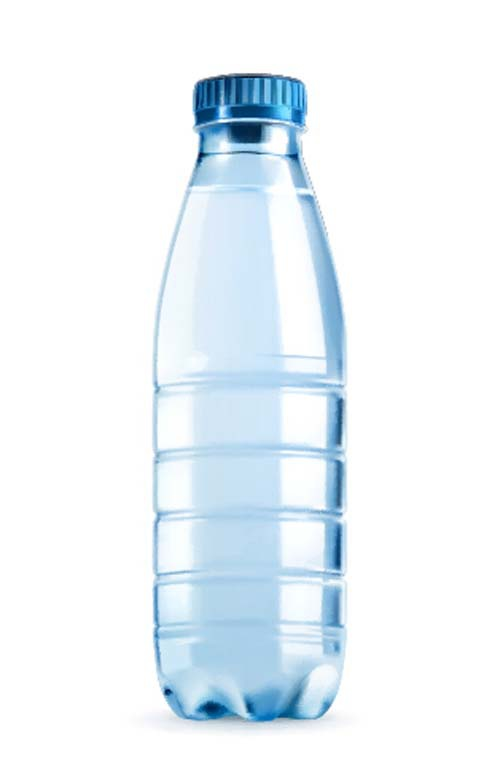emptybottle: (152, 75, 349, 720)
